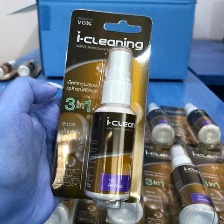book: (45, 5, 153, 208), (33, 0, 198, 87)
cleaning_solution: (80, 45, 139, 203), (165, 141, 220, 223), (107, 141, 145, 223), (179, 100, 223, 147), (144, 101, 174, 145), (13, 57, 38, 79), (0, 57, 16, 81)
